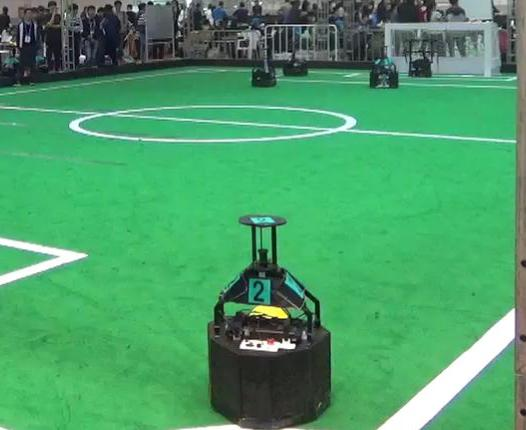robot: (182, 202, 348, 430)
